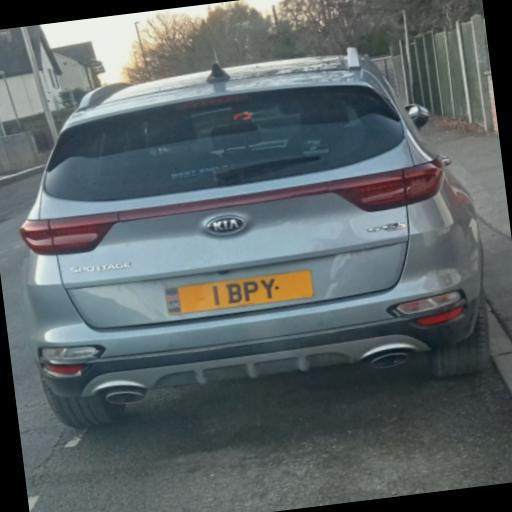numberplates: (166, 271, 313, 314)
